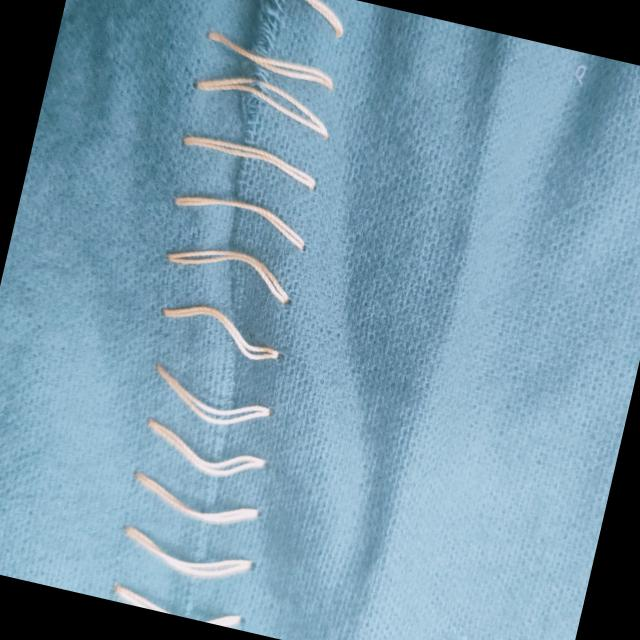gray stitch: (77, 0, 391, 631)
